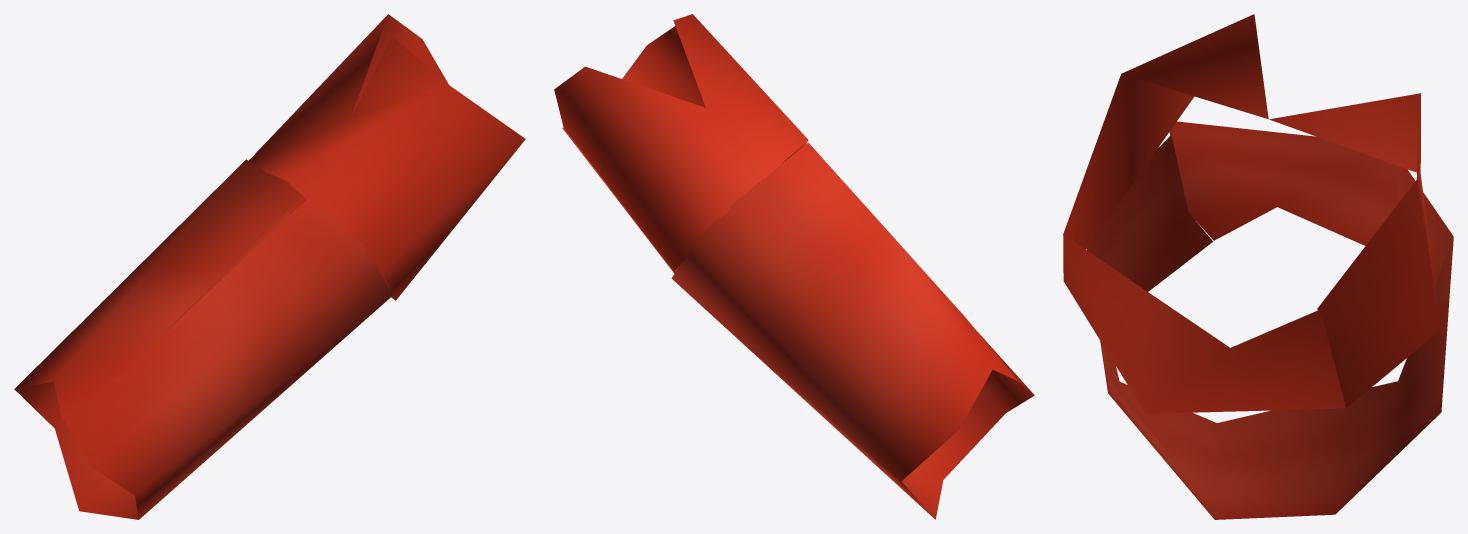
File: nero_antebrazo_2.obj
The picture shows the model from 3 angles, left to right: view 1: azimuth 30°, elevation 25°; view 2: azimuth 150°, elevation 25°; view 3: azimuth 270°, elevation 25°; orthographic projection. The views are drawn at different scales.
Parts seen in each view (by area): view 1: antebrazo2_Body_TDA_Saber_Nero.004; view 2: antebrazo2_Body_TDA_Saber_Nero.004; view 3: antebrazo2_Body_TDA_Saber_Nero.004.
Part boxes in pixels (x1,y1,x2,y2): antebrazo2_Body_TDA_Saber_Nero.004: (14, 14, 525, 519); antebrazo2_Body_TDA_Saber_Nero.004: (554, 14, 1034, 519); antebrazo2_Body_TDA_Saber_Nero.004: (1063, 14, 1453, 519).
Bounding box in the file's own units: 0.4209 × 0.3875 × 0.1821.
